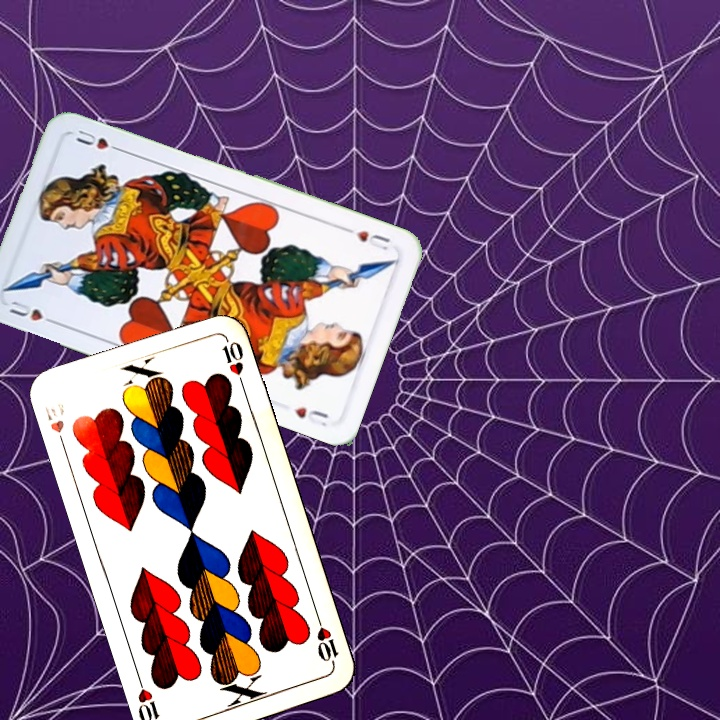H10: (312, 613, 342, 671), (40, 402, 69, 452)
HU: (4, 296, 61, 328), (340, 223, 394, 254)
